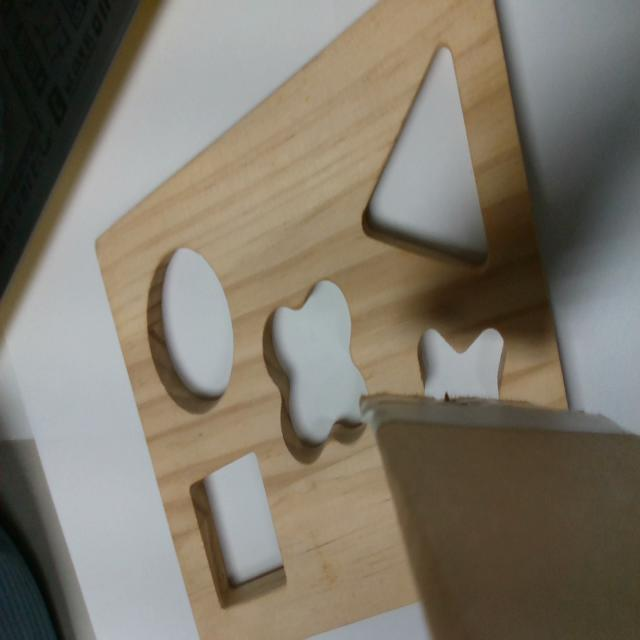circle: (147, 248, 234, 413)
flower: (265, 275, 371, 466)
square: (187, 449, 288, 612)
star: (419, 330, 508, 399)
triangle: (361, 43, 491, 275)
